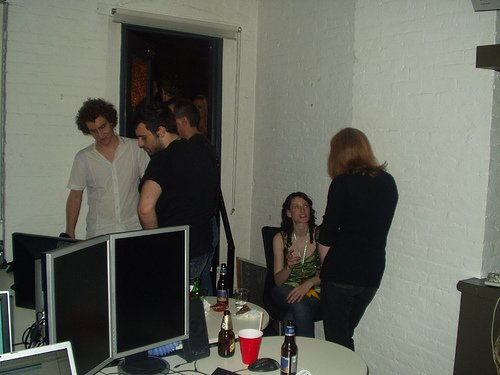bottle: (280, 322, 298, 374), (218, 309, 236, 357), (216, 264, 230, 306)
cup: (238, 329, 264, 367), (234, 288, 249, 313)
dining table: (4, 334, 370, 375)
laptop: (2, 342, 78, 375)
person: (318, 127, 398, 350), (136, 100, 222, 296), (60, 98, 150, 241), (267, 192, 320, 336)
tv: (42, 226, 192, 374), (12, 232, 78, 328)
